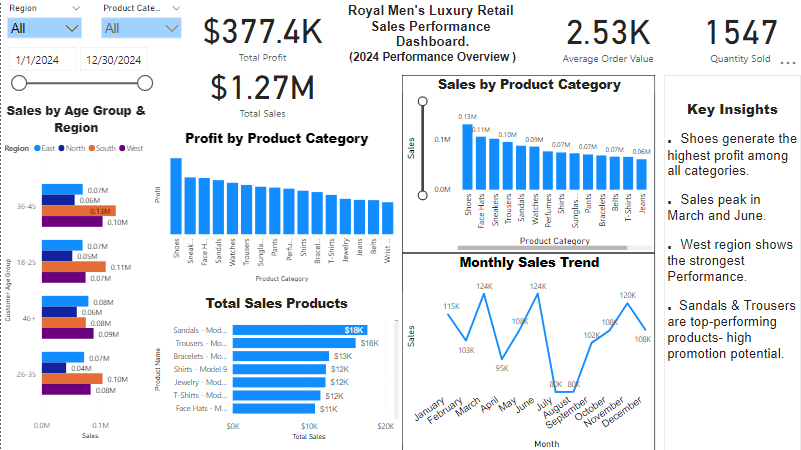

The dashboard page shown, as its layout file describes it:
{"tool":"powerbi","page":{"name":"Page 1","canvas":[1280,720],"ordinal":0},"visuals":[{"type":"card","fields":{"Values":["Sheet1.Total Profit"]},"box":[298.5,0,237.9,107],"z":0},{"type":"card","fields":{"Values":["Sheet1.Quantity Sold"]},"box":[1084,0,193.2,108.6],"z":1000},{"type":"card","fields":{"Values":["Sheet1.Average Order Value"]},"box":[854.1,0,229.9,108.6],"z":2000},{"type":"textbox","box":[536.4,0,304.9,119.7],"z":3000},{"type":"card","fields":{"Values":["Sheet1.Total Sales"]},"box":[271.4,94.2,292.2,97.4],"z":4000},{"type":"clusteredColumnChart","fields":{"Y":["Sum(Sheet1.Sales)"],"Category":["Sheet1.Product Category"]},"box":[640.2,119.7,403.9,284.2],"z":5000},{"type":"lineChart","title":"Monthly Sales Trend","fields":{"Category":["Sheet1.Order Date.Variation.Date Hierarchy.Month"],"Y":["Sum(Sheet1.Sales)"]},"box":[640.2,403.9,403.9,316.1],"z":6000},{"type":"barChart","title":"Total Sales Products","fields":{"Category":["Sheet1.Product Name"],"Y":["Sheet1.Total Sales"]},"box":[239.5,469.4,400.7,237.9],"z":7000},{"type":"clusteredColumnChart","fields":{"Category":["Sheet1.Product Category"],"Y":["Sum(Sheet1.Profit)"]},"box":[239.5,205.9,400.7,249],"z":8000},{"type":"clusteredBarChart","title":"Sales by Age Group & Region","fields":{"Category":["Sheet1.Customer Age Group"],"Y":["Sum(Sheet1.Sales)"],"Series":["Sheet1.Region"]},"box":[0,162.8,239.5,544.4],"z":9000},{"type":"slicer","fields":{"Values":["Sheet1.Region"]},"box":[0,0,138.9,76.6],"z":10000},{"type":"slicer","fields":{"Values":["Sheet1.Product Category"]},"box":[150.1,0,148.5,76.6],"z":11000},{"type":"slicer","title":"Date Slicer","fields":{"Values":["Sheet1.Order Date"]},"box":[0,65.5,250.6,86.2],"z":12000},{"type":"textbox","box":[1058.4,119.7,218.7,600.3],"z":13000}]}

Visuals, with their boxes in screenshot pixels (x1, y1, x2, y2), scaled from the page's 1280x720 canvas onto the 801x450 screenshot:
card - Sheet1.Total Profit: Rect(187, 0, 336, 67)
card - Sheet1.Quantity Sold: Rect(678, 0, 799, 68)
card - Sheet1.Average Order Value: Rect(534, 0, 678, 68)
textbox: Rect(336, 0, 526, 75)
card - Sheet1.Total Sales: Rect(170, 59, 353, 120)
clusteredColumnChart - Sum(Sheet1.Sales) x Sheet1.Product Category: Rect(401, 75, 653, 252)
"Monthly Sales Trend" lineChart: Rect(401, 252, 653, 449)
"Total Sales Products" barChart: Rect(150, 293, 401, 442)
clusteredColumnChart - Sheet1.Product Category x Sum(Sheet1.Profit): Rect(150, 129, 401, 284)
"Sales by Age Group & Region" clusteredBarChart: Rect(0, 102, 150, 442)
slicer - Sheet1.Region: Rect(0, 0, 87, 48)
slicer - Sheet1.Product Category: Rect(94, 0, 187, 48)
"Date Slicer" slicer: Rect(0, 41, 157, 95)
textbox: Rect(662, 75, 799, 449)
